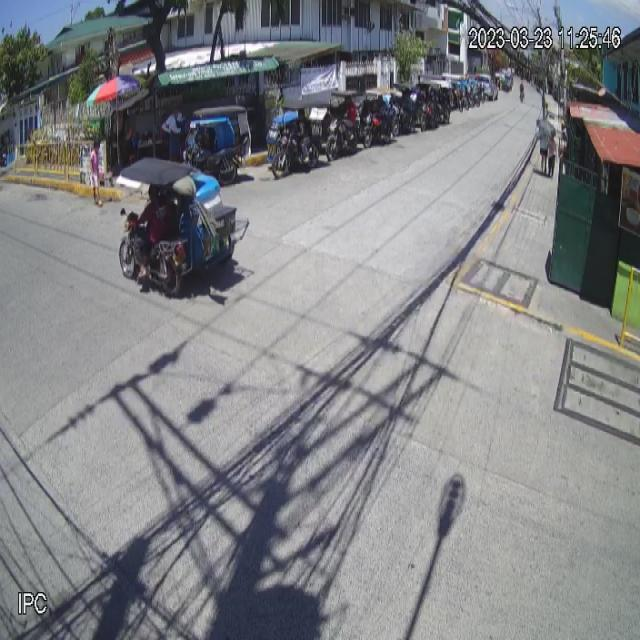Tricycle: (116, 157, 250, 295)
